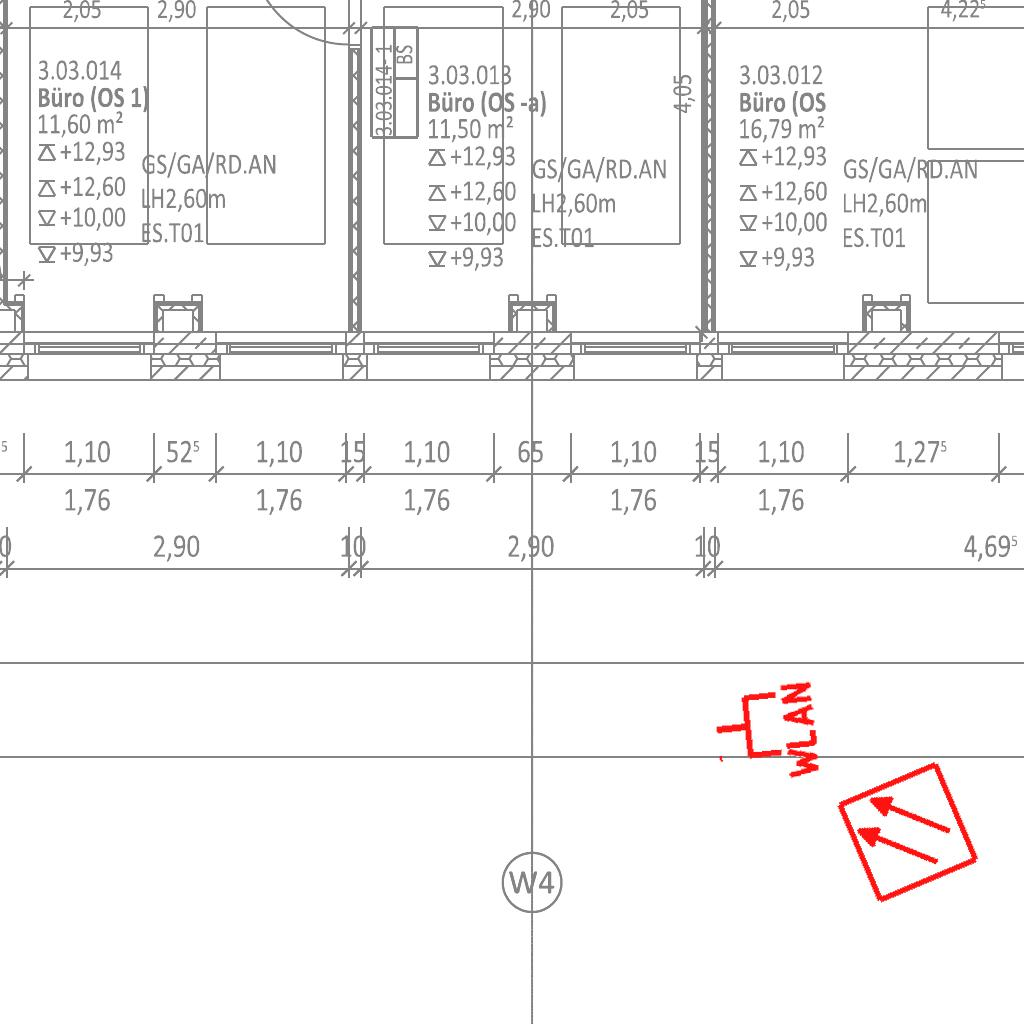RMO_Rauchmelder_optischer: (833, 758, 982, 907)
WLAN: (707, 676, 824, 792)
